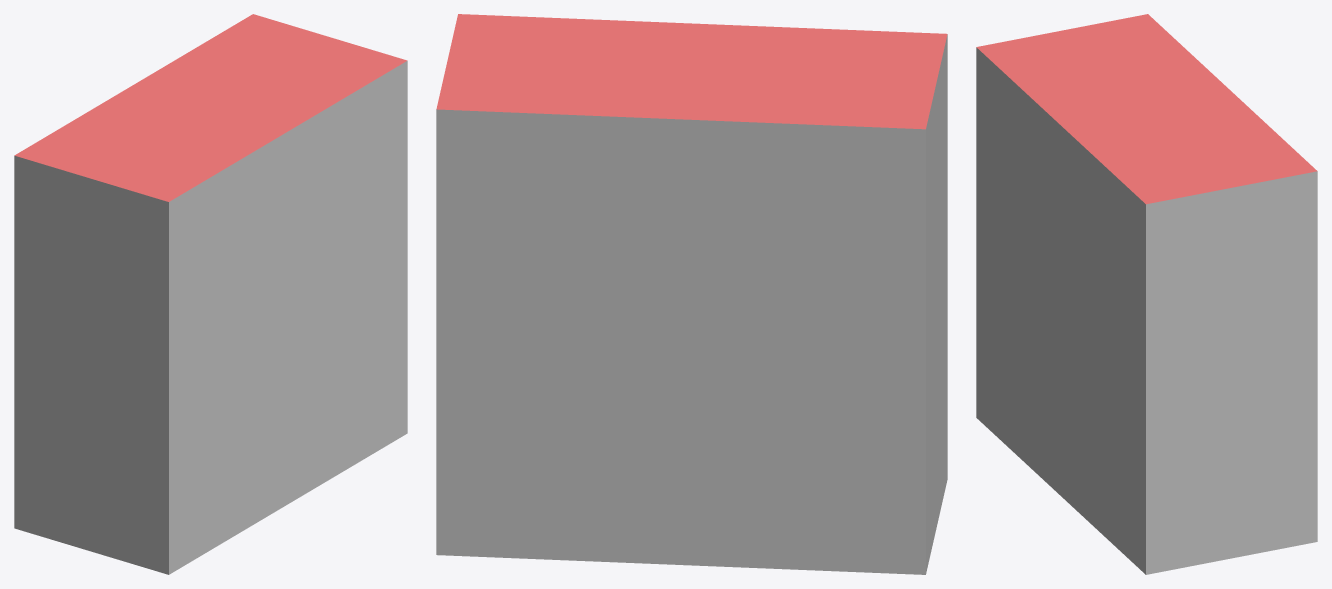
3 renders of one model, left to right at view 1: azimuth 30°, elevation 25°; view 2: azimuth 150°, elevation 25°; view 3: azimuth 270°, elevation 25°, orthographic. The views are drawn at different scales.
Parts seen in each view (by area): view 1: Z_UP; view 2: Z_UP; view 3: Z_UP.
Boxes of the visible parts, left/top/right/bottom form: Z_UP: left=14, top=14, right=407, bottom=574; Z_UP: left=436, top=14, right=947, bottom=574; Z_UP: left=976, top=14, right=1317, bottom=574.
Size of the model in its own units: 14.32 by 13 by 10.85.
